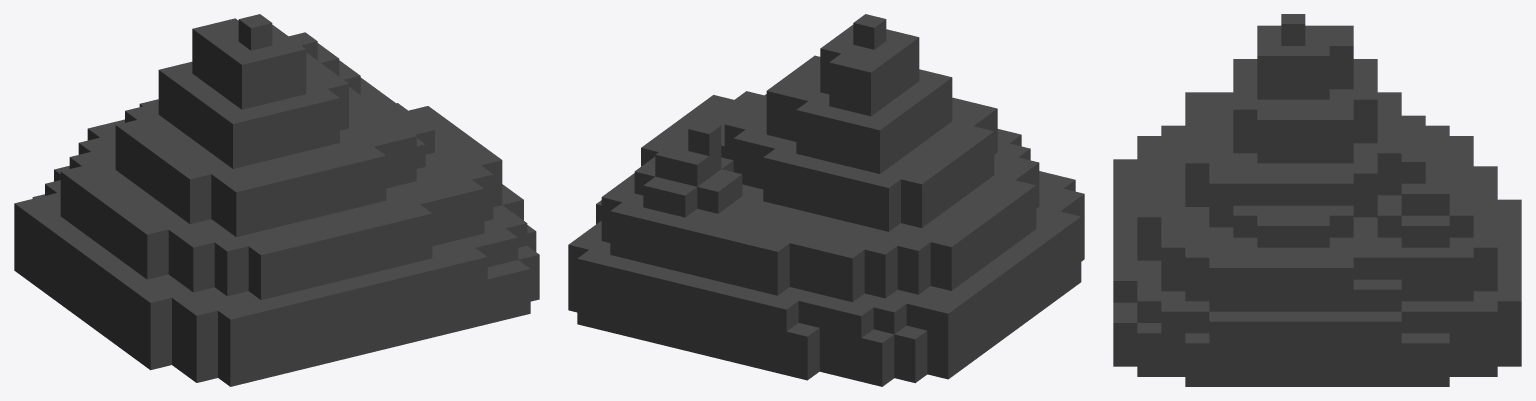
File: Stone1.obj
3 renders of one model, left to right at view 1: azimuth 30°, elevation 25°; view 2: azimuth 150°, elevation 25°; view 3: azimuth 270°, elevation 25°, orthographic. The views are drawn at different scales.
Bounding box in the file's own units: 1.8 × 1.2 × 1.7.
Materials: 1 (1 with a texture image).
